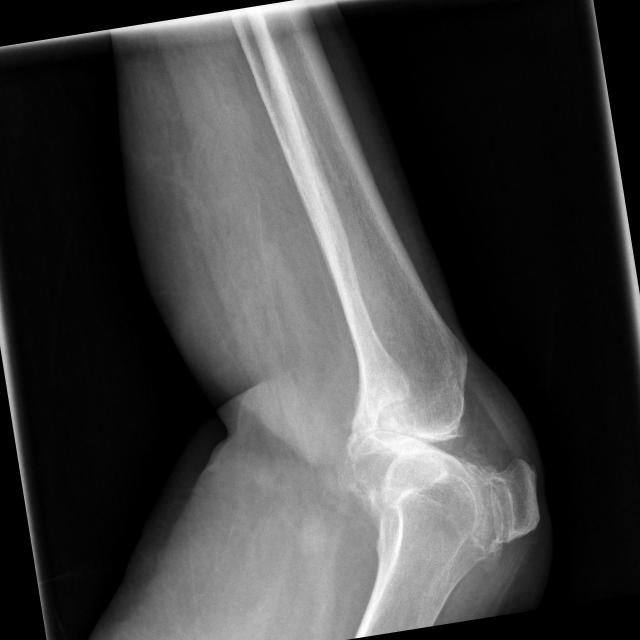Knee: (329, 348, 552, 596)
